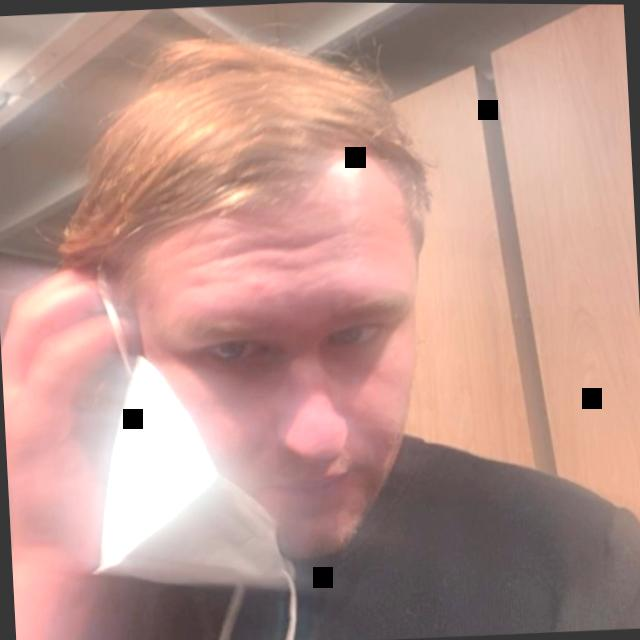NO-Mask: (88, 10, 478, 566)
